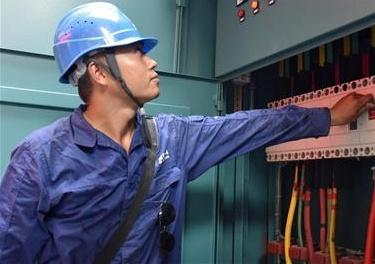gloves: (158, 231, 175, 255)
hard-hat: (53, 1, 158, 84)
vest: (0, 102, 332, 263)
